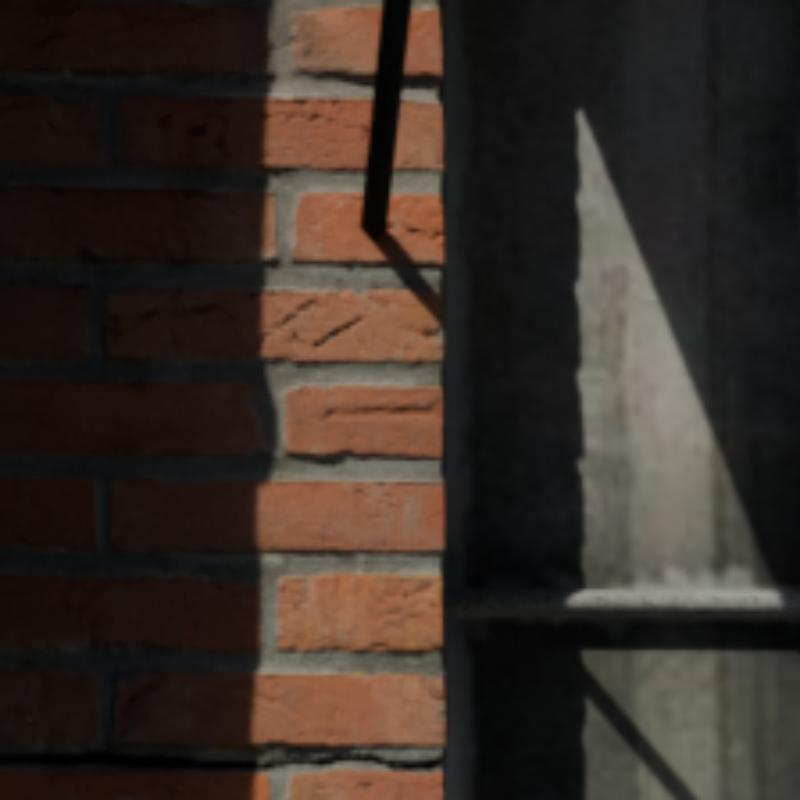crack: (0, 754, 436, 768)
